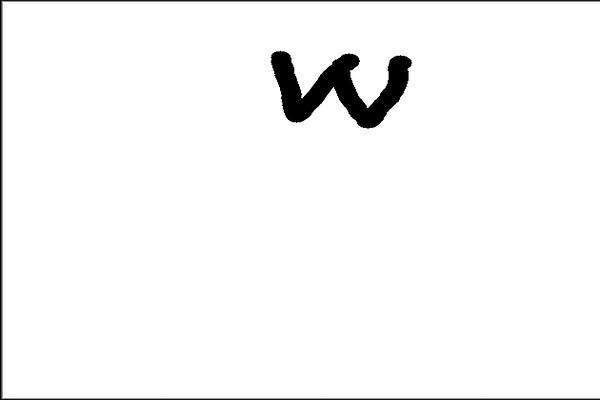w: (259, 39, 419, 144)
